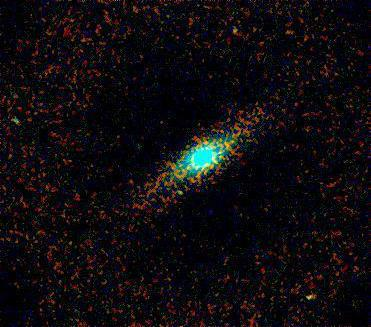star: (173, 178, 203, 208)
